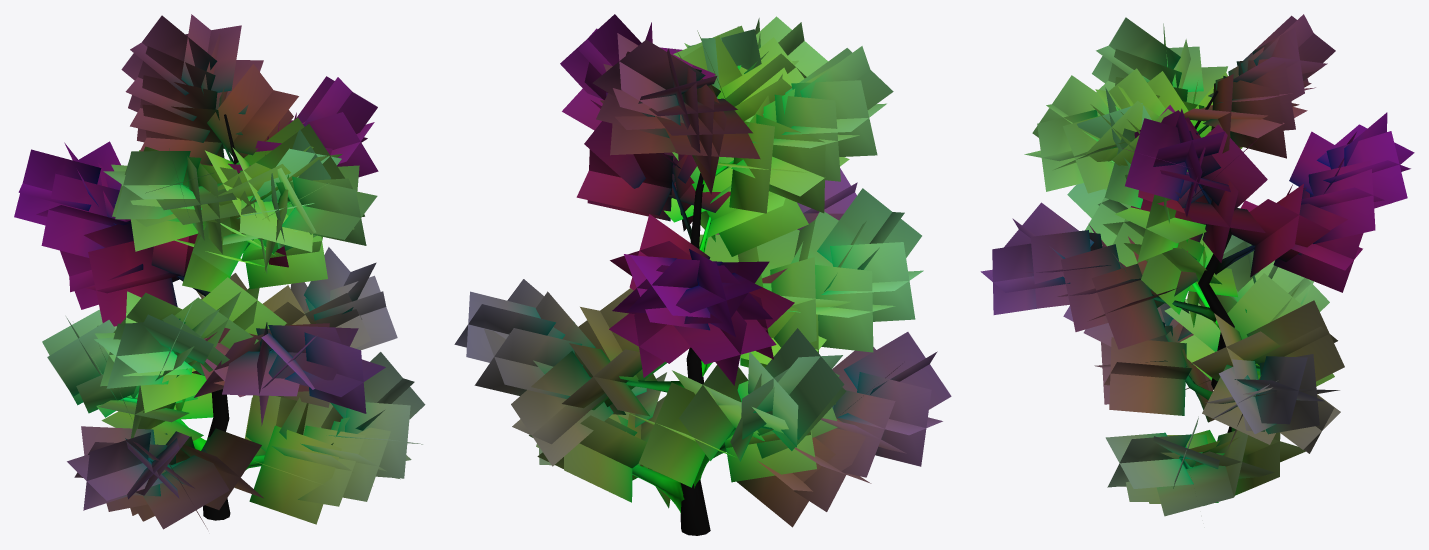
The model's file is URP_P11_Tree_5_LOD_2.fbx.
3 views of the same model, side by side, from view 1: azimuth 30°, elevation 25°; view 2: azimuth 150°, elevation 25°; view 3: azimuth 270°, elevation 25° (orthographic). The views are drawn at different scales.
Visible parts, largest first — view 1: Tree_5_LOD_2; view 2: Tree_5_LOD_2; view 3: Tree_5_LOD_2.
Part boxes in pixels (left/top/right/bottom): Tree_5_LOD_2: left=14, top=14, right=425, bottom=529; Tree_5_LOD_2: left=454, top=14, right=951, bottom=535; Tree_5_LOD_2: left=980, top=14, right=1414, bottom=516.
Bounding box in the file's own units: 585 × 733 × 632.
